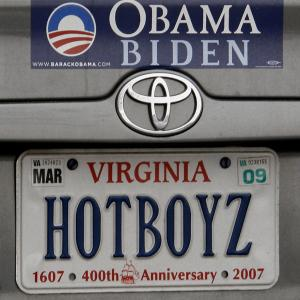Vehicle-registration-plate: (16, 147, 281, 296)
